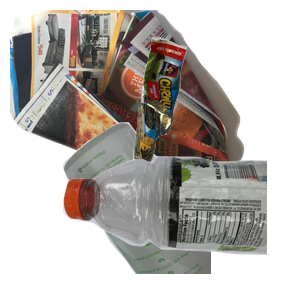glass: (60, 120, 300, 300)
paper: (10, 10, 250, 190)
plastic: (60, 152, 300, 300)
trash: (130, 34, 300, 203)
